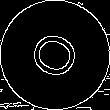O_SE: (23, 25, 87, 85)
